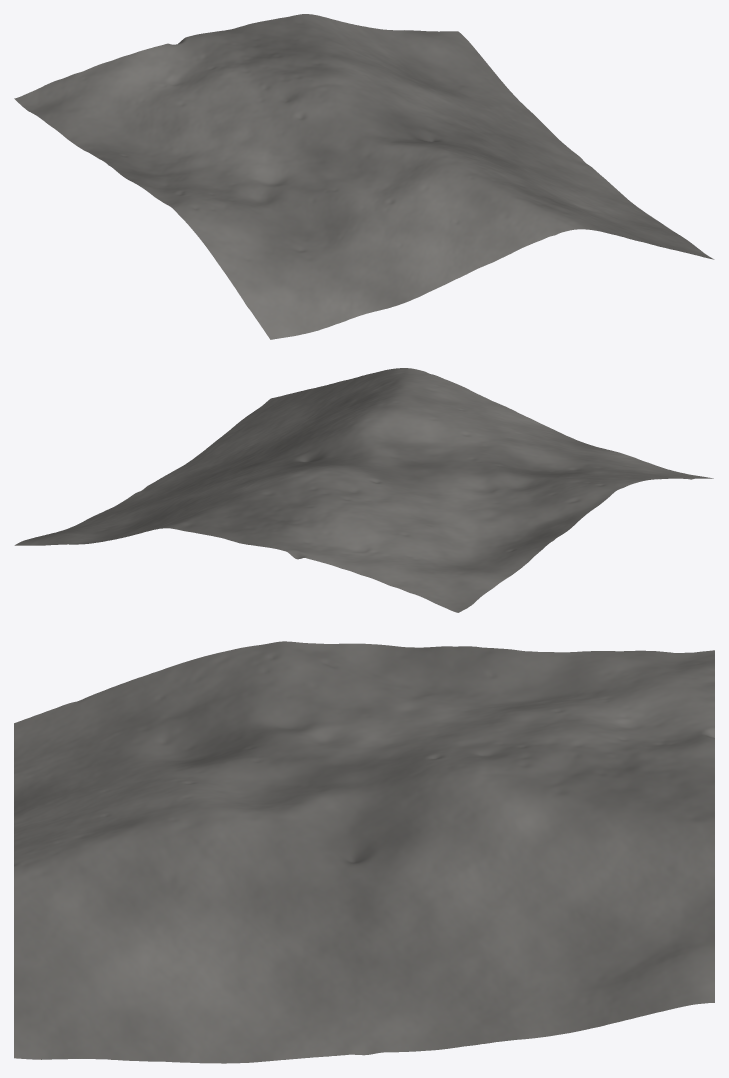
File: nobile-rim.glb
3 renders of one model, top to bottom at view 1: azimuth 30°, elevation 25°; view 2: azimuth 150°, elevation 25°; view 3: azimuth 270°, elevation 25°, orthographic. The views are drawn at different scales.
Visible parts, largest first — view 1: Ground; view 2: Ground; view 3: Ground.
Boxes of the visible parts, left/top/right/bottom form: Ground: left=14, top=14, right=714, bottom=339; Ground: left=14, top=368, right=713, bottom=612; Ground: left=14, top=641, right=714, bottom=1063.
Size of the model in its own units: 20 by 4.58 by 20.
1 material, 1 textured.
